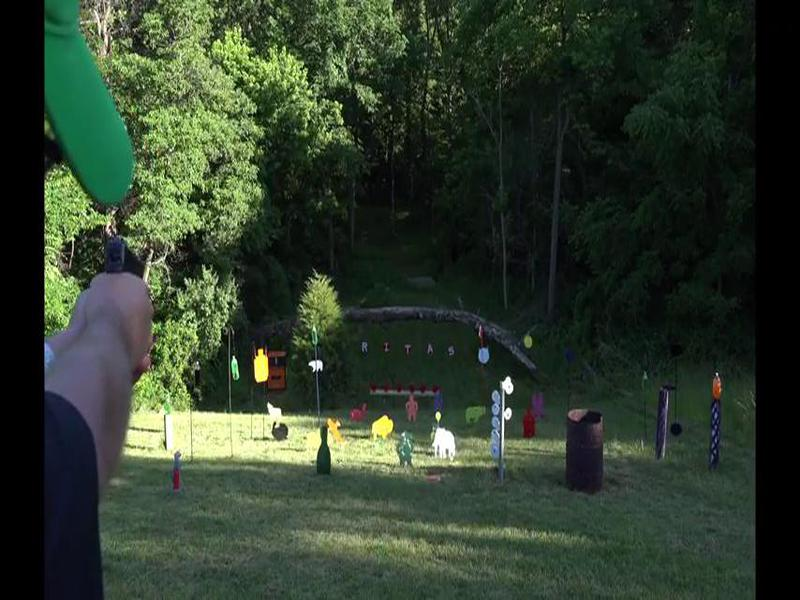Pistola: (97, 231, 151, 299)
